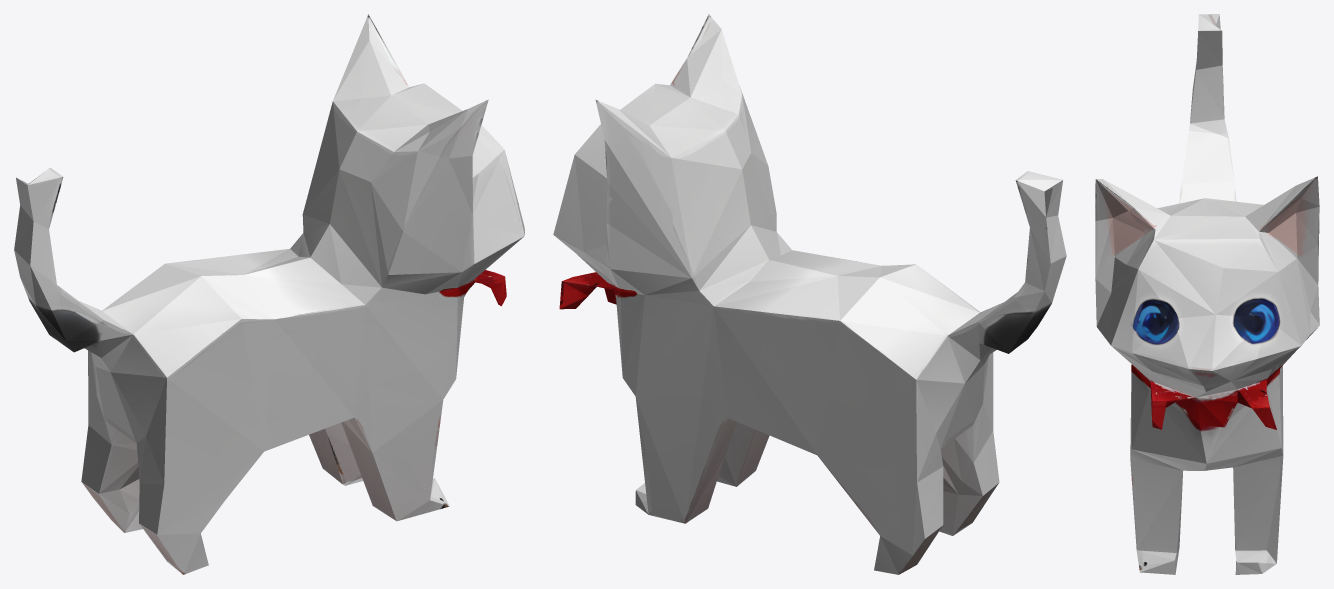
3 renders of one model, left to right at view 1: azimuth 30°, elevation 25°; view 2: azimuth 150°, elevation 25°; view 3: azimuth 270°, elevation 25°, orthographic. The views are drawn at different scales.
Parts seen in each view (by area): view 1: Figure; view 2: Figure; view 3: Figure.
Boxes of the visible parts, x1,y1,x2,y2 form: Figure: (14,14,524,574); Figure: (553,14,1066,574); Figure: (1095,14,1319,574).
Size of the model in its own units: 0.4767 by 0.3948 by 0.1984.
Materials: 1 (1 with a texture image).
